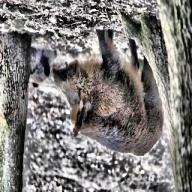boar: (50, 29, 164, 158)
